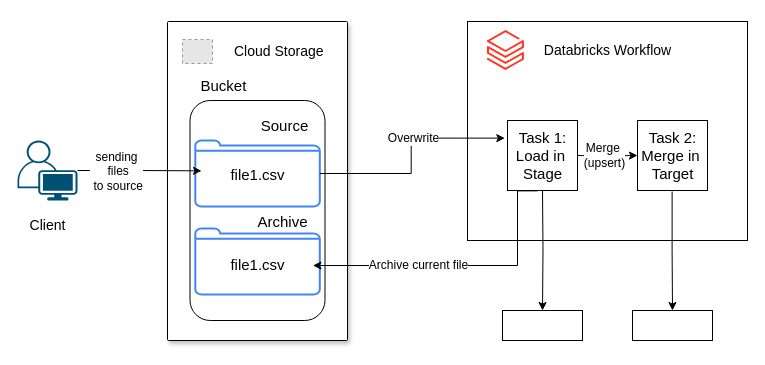
Image size: 765x365. Some labels were removed from this diagram. Grey dashed boxes stand in for pictures. Here are the shapes that lost their labels. From the top down, the centre of each, then its label:
point (542, 325): stage_table
point (672, 325): target_table
